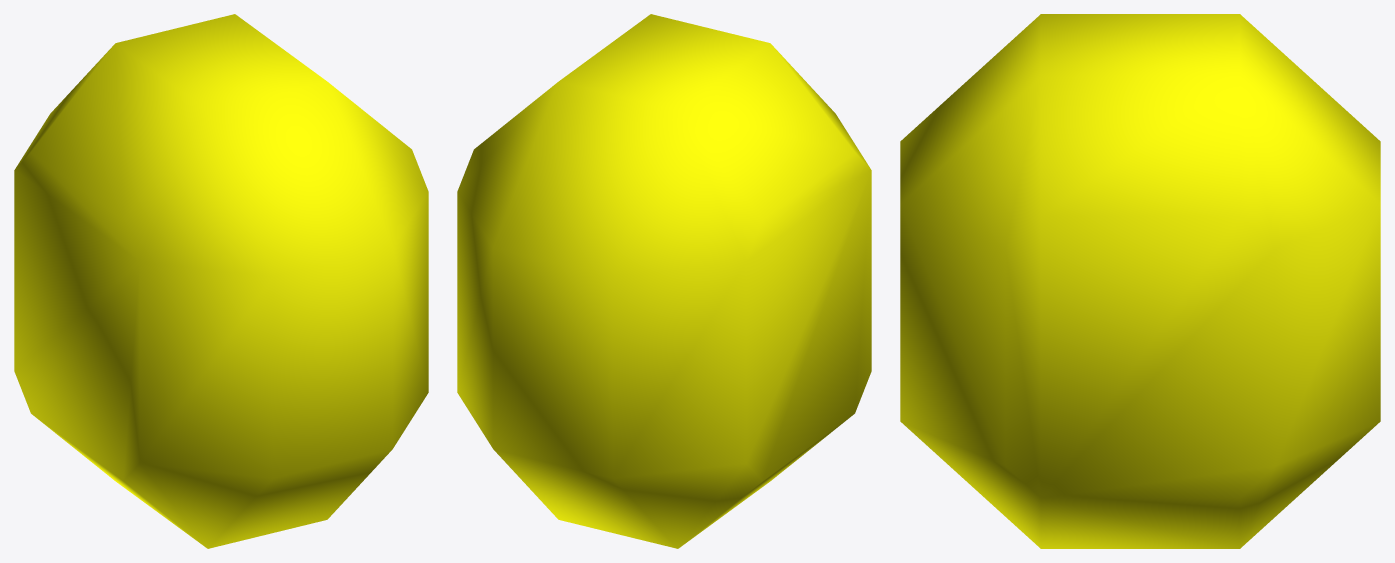
File: wrist.bbox.gltf
The picture shows the model from 3 angles, left to right: view 1: azimuth 30°, elevation 25°; view 2: azimuth 150°, elevation 25°; view 3: azimuth 270°, elevation 25°; orthographic projection. The views are drawn at different scales.
Parts seen in each view (by area): view 1: wrist.bbox; view 2: wrist.bbox; view 3: wrist.bbox.
Boxes of the visible parts, left/top/right/bottom form: wrist.bbox: left=14, top=14, right=428, bottom=548; wrist.bbox: left=457, top=14, right=871, bottom=548; wrist.bbox: left=900, top=14, right=1380, bottom=548.
Size of the model in its own units: 0.063 by 0.0914 by 0.0842.
